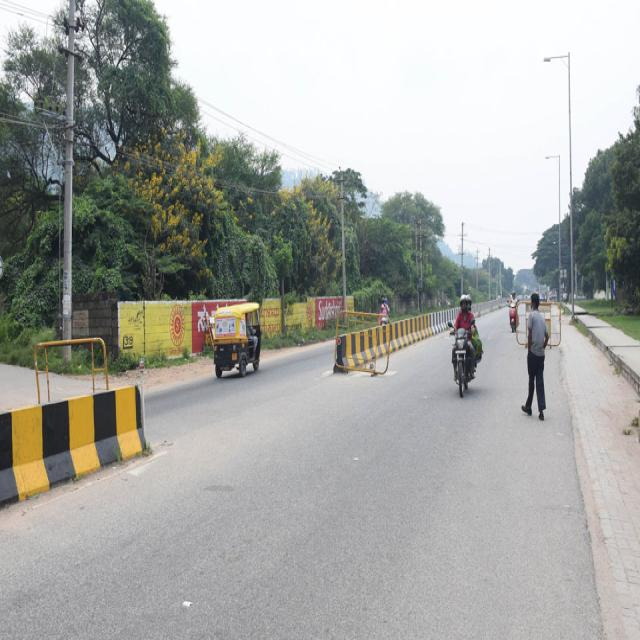autorickshaw: (214, 302, 261, 378)
motorcycle: (448, 296, 482, 397)
